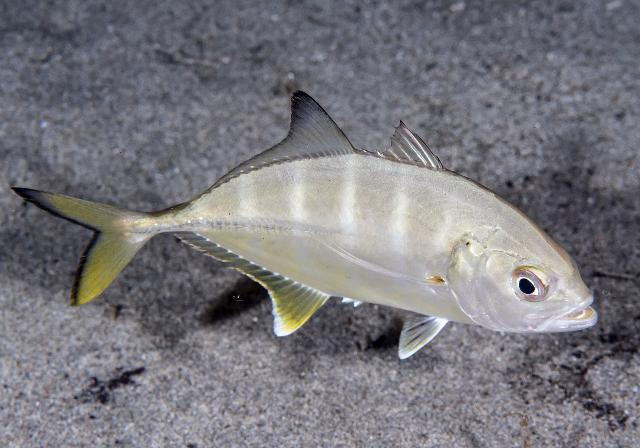Mulut: (540, 270, 618, 356)
Sirip Anal: (166, 222, 332, 356)
Sirip Dada: (385, 298, 457, 370)
Sirip Ekor: (5, 176, 155, 322)
Sirip Perut: (340, 289, 368, 315)
Sirip Punggung: (186, 77, 459, 193)
